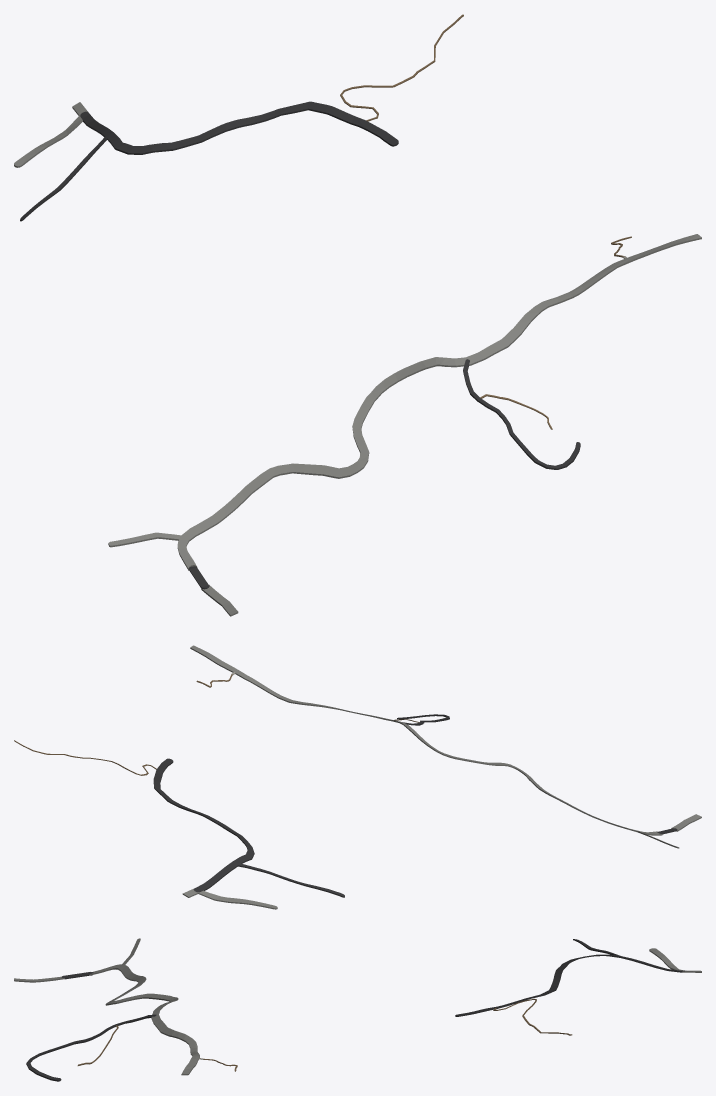
The picture shows the model from 3 angles, top to bottom: view 1: azimuth 30°, elevation 25°; view 2: azimuth 150°, elevation 25°; view 3: azimuth 270°, elevation 25°; orthographic projection. The views are drawn at different scales.
Bounding box in the file's own units: 496 × 163 × 583.
